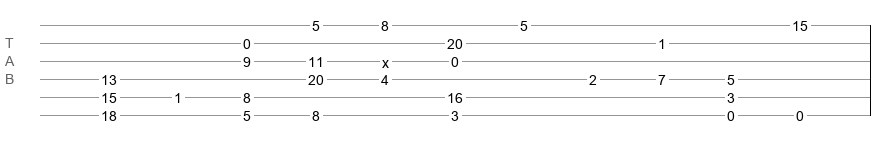0: (243, 36, 251, 46), (451, 54, 459, 64), (727, 108, 735, 118), (796, 108, 804, 118)
1: (174, 90, 182, 100), (658, 36, 666, 46)
11: (308, 54, 324, 64)
13: (101, 72, 117, 82)
15: (101, 90, 117, 100), (792, 18, 808, 28)
16: (447, 90, 463, 100)
18: (101, 108, 117, 118)
2: (589, 72, 597, 82)
20: (308, 72, 324, 82), (447, 36, 463, 46)
3: (451, 108, 459, 118), (727, 90, 735, 100)
4: (381, 72, 389, 82)
5: (243, 108, 251, 118), (312, 18, 320, 28), (520, 18, 528, 28), (727, 72, 735, 82)
7: (658, 72, 666, 82)
8: (243, 90, 251, 100), (312, 108, 320, 118), (381, 18, 389, 28)
9: (243, 54, 251, 64)
x: (382, 55, 389, 63)
